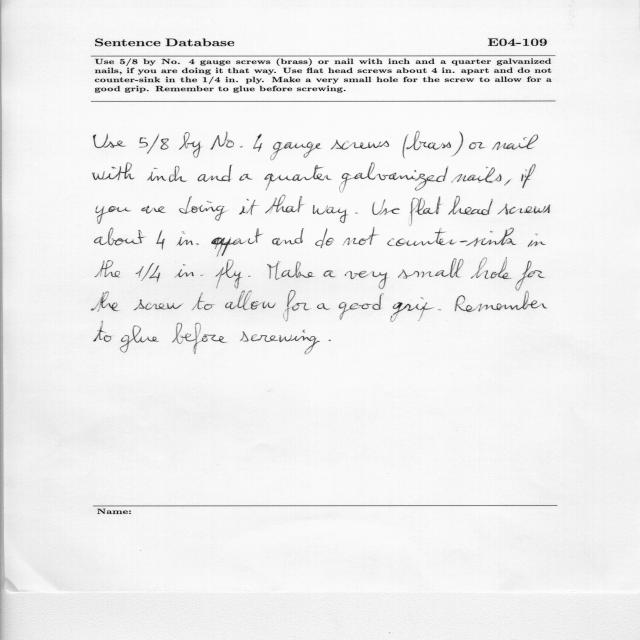word: (343, 227, 516, 247), (340, 163, 449, 192), (240, 330, 320, 355), (455, 291, 547, 312), (172, 323, 228, 354), (265, 165, 332, 190), (211, 228, 262, 257), (398, 258, 463, 279), (179, 196, 227, 221), (339, 294, 384, 320), (391, 297, 435, 322), (120, 326, 159, 353), (225, 290, 276, 310), (409, 197, 442, 227), (270, 142, 322, 160), (94, 228, 146, 246), (267, 261, 315, 280), (471, 257, 512, 279), (515, 261, 545, 291), (406, 131, 451, 150), (448, 196, 493, 215), (283, 290, 310, 321), (451, 167, 502, 183), (215, 260, 242, 289), (345, 271, 388, 289), (492, 134, 538, 150), (93, 163, 135, 180), (265, 195, 304, 213), (498, 203, 551, 215), (96, 206, 131, 224), (313, 205, 348, 223), (148, 166, 187, 182), (139, 134, 169, 154), (210, 132, 243, 150), (331, 140, 389, 150), (198, 165, 232, 182), (272, 228, 304, 246), (179, 132, 201, 158), (91, 292, 119, 312), (134, 300, 184, 311), (136, 263, 161, 282), (93, 134, 126, 148), (95, 260, 120, 278), (372, 199, 400, 215), (192, 293, 215, 311), (94, 321, 112, 342), (175, 265, 203, 278), (521, 164, 536, 188), (177, 232, 199, 246), (451, 132, 463, 157), (239, 199, 257, 215), (528, 233, 546, 247), (316, 228, 328, 248), (141, 206, 166, 214), (253, 134, 263, 152), (156, 231, 165, 250), (403, 134, 409, 158), (469, 142, 485, 149), (240, 174, 253, 181), (317, 303, 330, 310), (324, 271, 336, 278), (325, 238, 334, 246), (504, 179, 511, 186), (356, 213, 359, 214), (248, 276, 251, 277), (438, 309, 441, 310), (329, 340, 332, 341)
